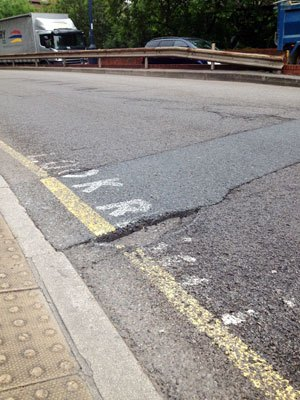pothole: (80, 209, 201, 248)
